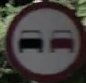No overtake: (7, 3, 78, 70)
